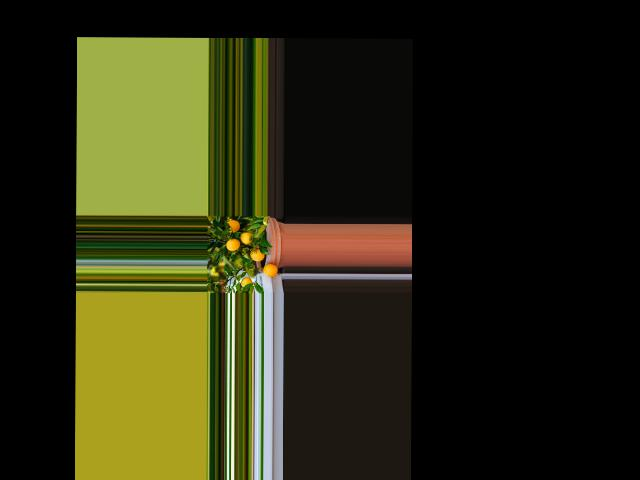lemon: (239, 277, 255, 287)
